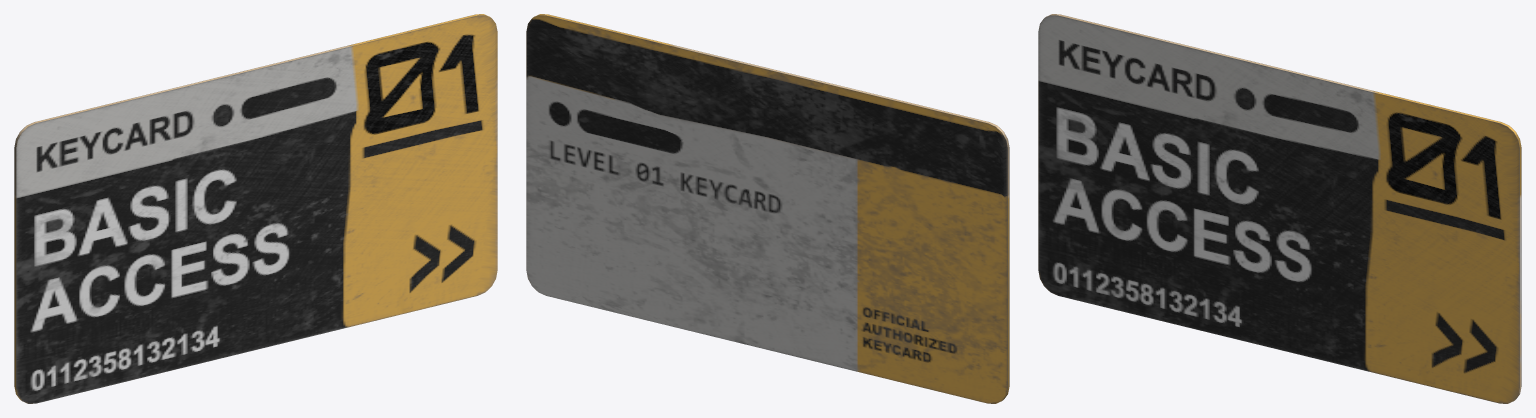
The model's file is TarjetaAcceso.fbx.
3 renders of one model, left to right at view 1: azimuth 30°, elevation 25°; view 2: azimuth 150°, elevation 25°; view 3: azimuth 330°, elevation 25°, orthographic.
Parts seen in each view (by area): view 1: Cube.001; view 2: Cube.001; view 3: Cube.001.
Boxes of the visible parts, x1,y1,x2,y2 form: Cube.001: (14, 14, 497, 403); Cube.001: (526, 14, 1009, 403); Cube.001: (1038, 14, 1521, 403).
Size of the model in its own units: 14.4 by 8.01 by 0.0914.
Materials: 1 (1 with a texture image).
